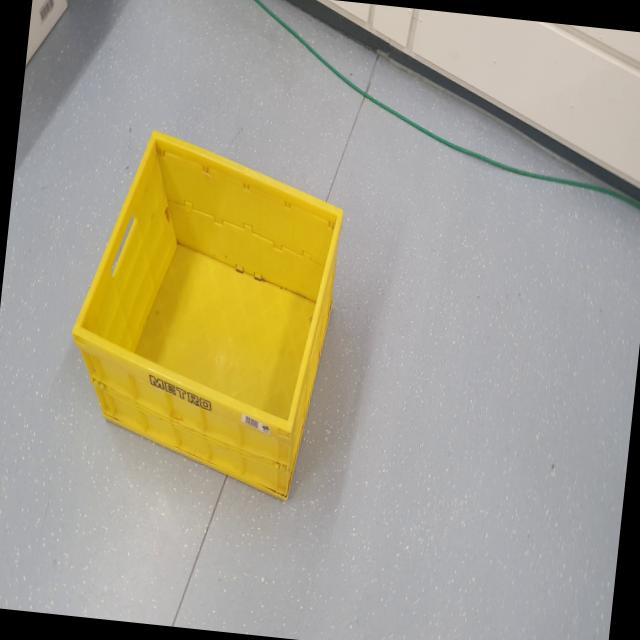box: (41, 110, 365, 535)
